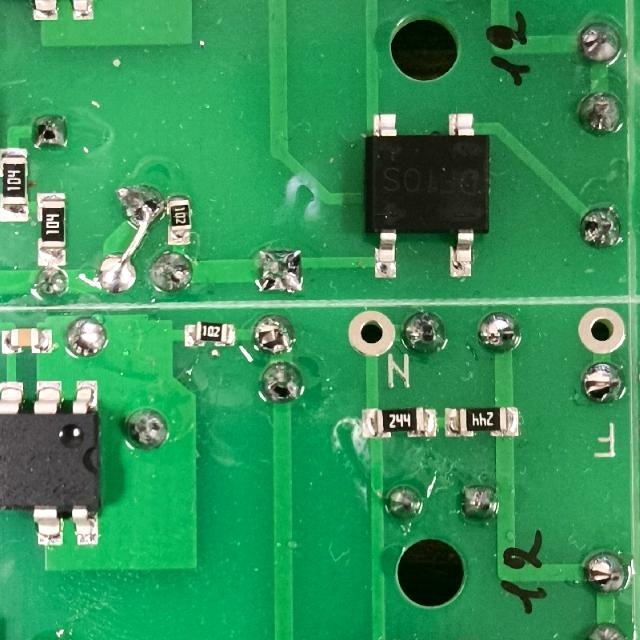chip-capacitor: (0, 326, 55, 355)
chip-resistor: (442, 405, 521, 439), (359, 406, 437, 439), (36, 188, 68, 267), (0, 144, 30, 223), (166, 194, 193, 248), (184, 321, 235, 349)
ic: (362, 108, 496, 280), (0, 371, 104, 549)
